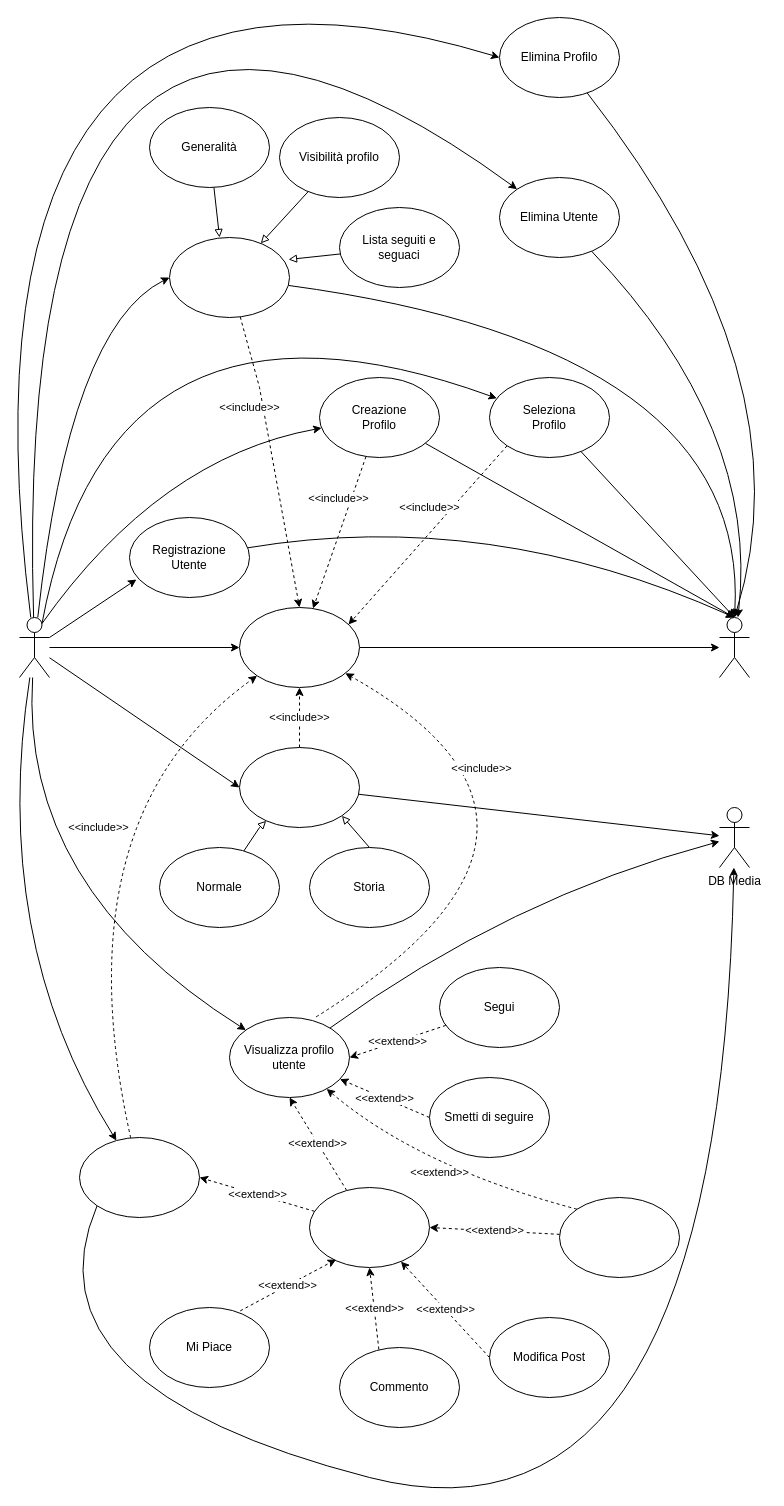
This 784x1506 diagram has some shape labels left out. The shapes that lost their labels are listed below. From the top down, each one's box as (x1, y1, x2, y2) in pixels, then its label:
(168, 236, 290, 318): Modifica Profilo
(18, 616, 50, 678): Utente
(238, 606, 360, 688): Login Utente
(718, 616, 750, 678): DB Accesso
(238, 746, 360, 828): Pubblica post
(78, 1136, 200, 1218): Visualizza feed
(308, 1186, 430, 1268): Visualizza post
(558, 1196, 680, 1278): Segnala
